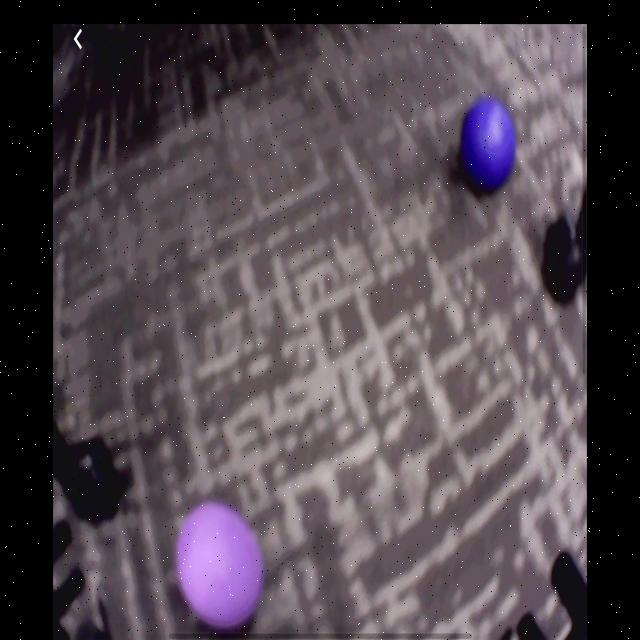ball: (174, 506, 262, 633), (458, 101, 519, 195)
